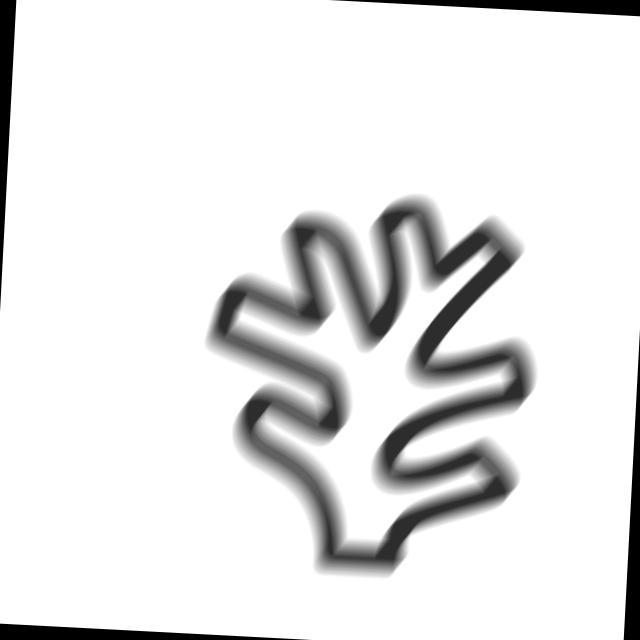coral: (186, 179, 556, 597)
